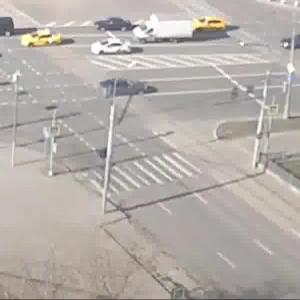car: (134, 16, 189, 47), (191, 17, 228, 35), (95, 14, 130, 33), (27, 33, 64, 50), (92, 41, 129, 56)
